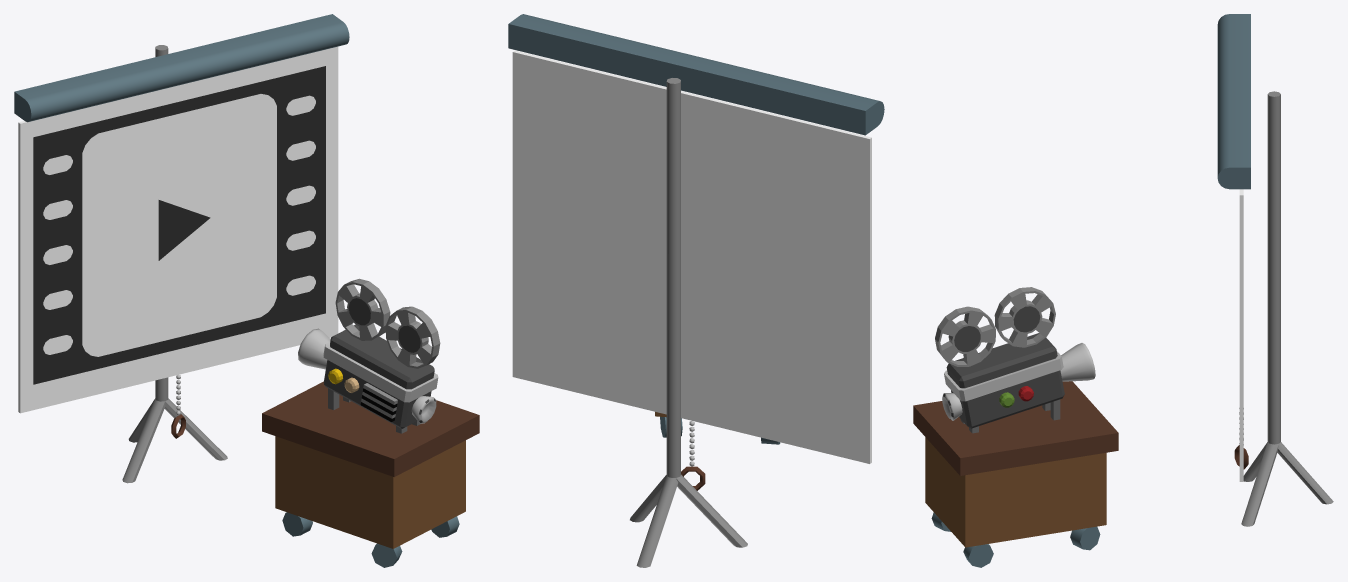
3 renders of one model, left to right at view 1: azimuth 30°, elevation 25°; view 2: azimuth 150°, elevation 25°; view 3: azimuth 270°, elevation 25°, orthographic. The views are drawn at different scales.
Visible parts, largest first — view 1: Cylinder; view 2: Cylinder; view 3: Cylinder.
Boxes of the visible parts, bbox=[...] form: Cylinder: bbox=[14, 14, 479, 567]; Cylinder: bbox=[508, 14, 884, 567]; Cylinder: bbox=[913, 14, 1333, 567].
Bounding box in the file's own units: 1.37 × 1.71 × 1.59.
1 material, 1 textured.
